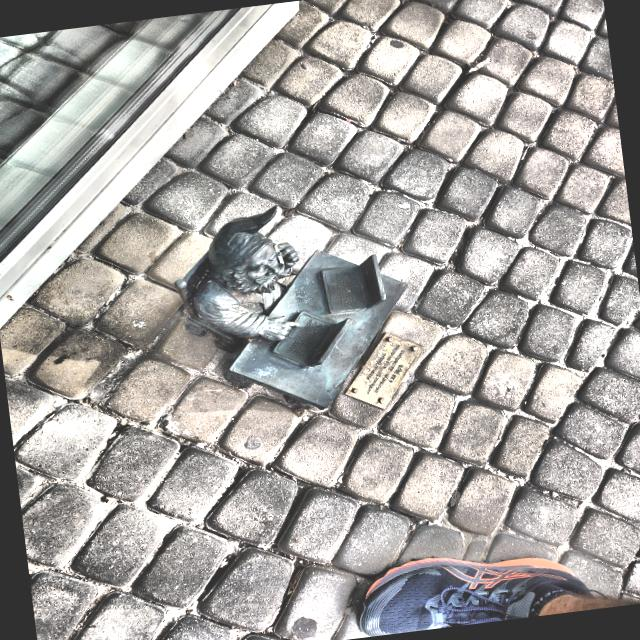WIZek: (174, 207, 405, 408)
